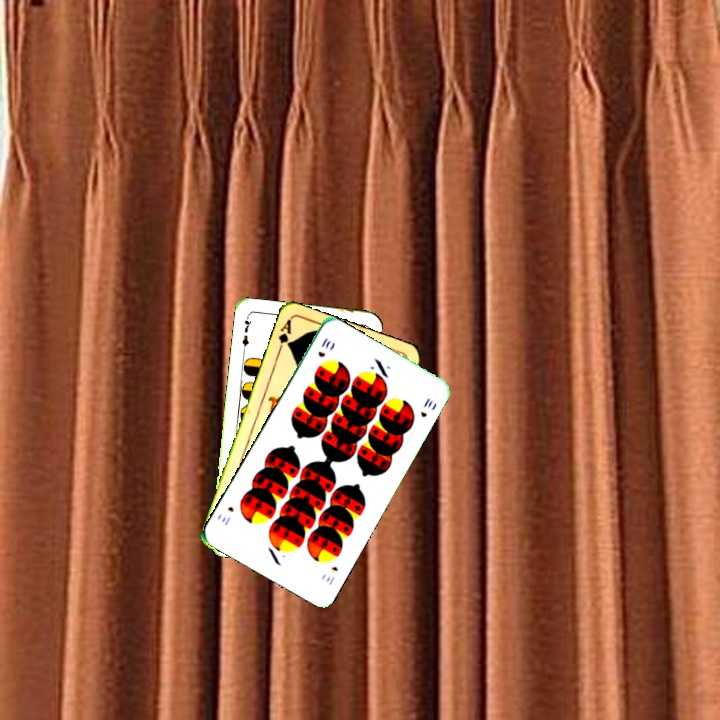E7: (238, 312, 254, 353)
GA: (274, 316, 294, 356)
S10: (314, 333, 334, 360), (322, 562, 340, 587)
